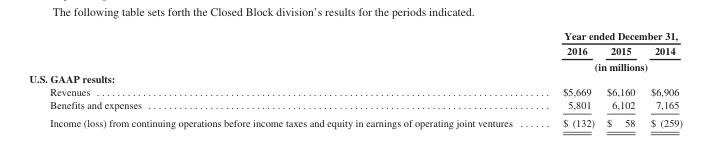table: (28, 28, 681, 128)
table column: (28, 28, 537, 128), (537, 28, 600, 128), (600, 28, 642, 128), (642, 28, 681, 128)
table column header: (28, 28, 681, 72)
table projected row header: (28, 72, 681, 85)
table row: (28, 42, 681, 58), (28, 98, 681, 113), (28, 113, 681, 128), (28, 28, 681, 42), (28, 58, 681, 72), (28, 72, 681, 85), (28, 85, 681, 98)
table spanning cell: (537, 28, 681, 42), (537, 58, 681, 72)
